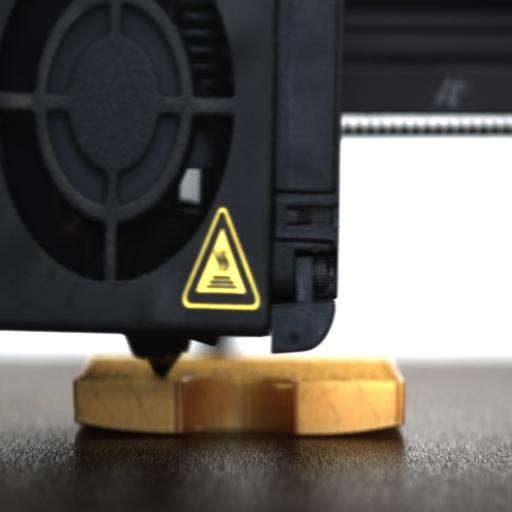warp: (72, 408, 178, 432), (302, 413, 404, 434)
